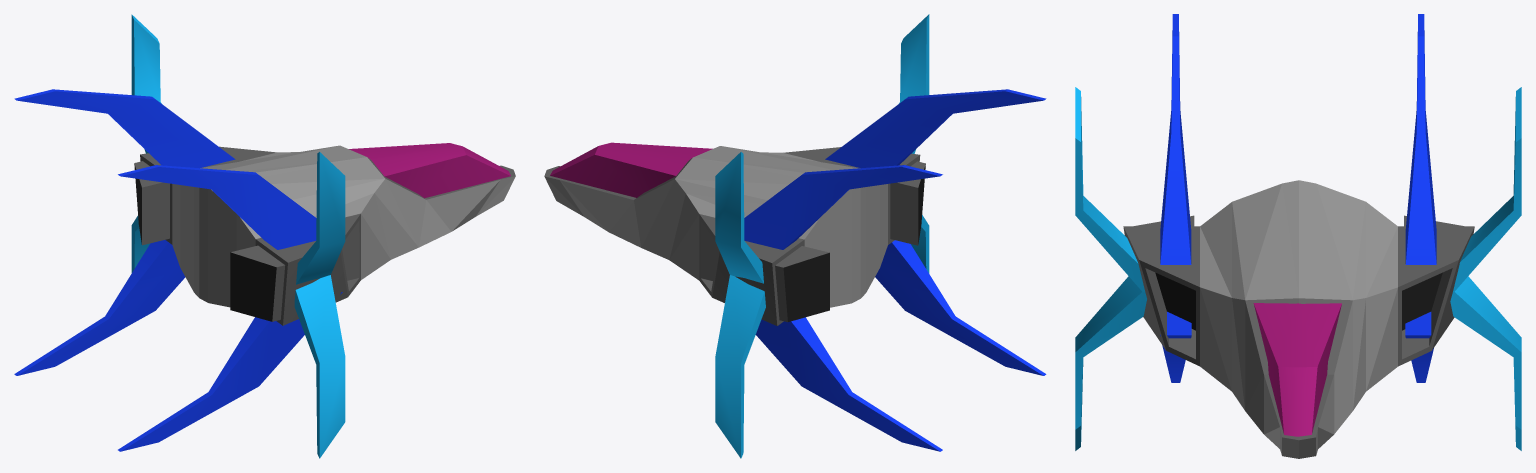
Rendered from player_ship01.FBX.
The picture shows the model from 3 angles, left to right: view 1: azimuth 30°, elevation 25°; view 2: azimuth 150°, elevation 25°; view 3: azimuth 270°, elevation 25°; orthographic projection. The views are drawn at different scales.
Parts seen in each view (by area): view 1: Box001; view 2: Box001; view 3: Box001.
Boxes of the visible parts, <box> form: Box001: <box>14,14,515,458</box>; Box001: <box>544,14,1046,458</box>; Box001: <box>1075,14,1521,458</box>.
Bounding box in the file's own units: 100 × 65.98 × 73.21.
